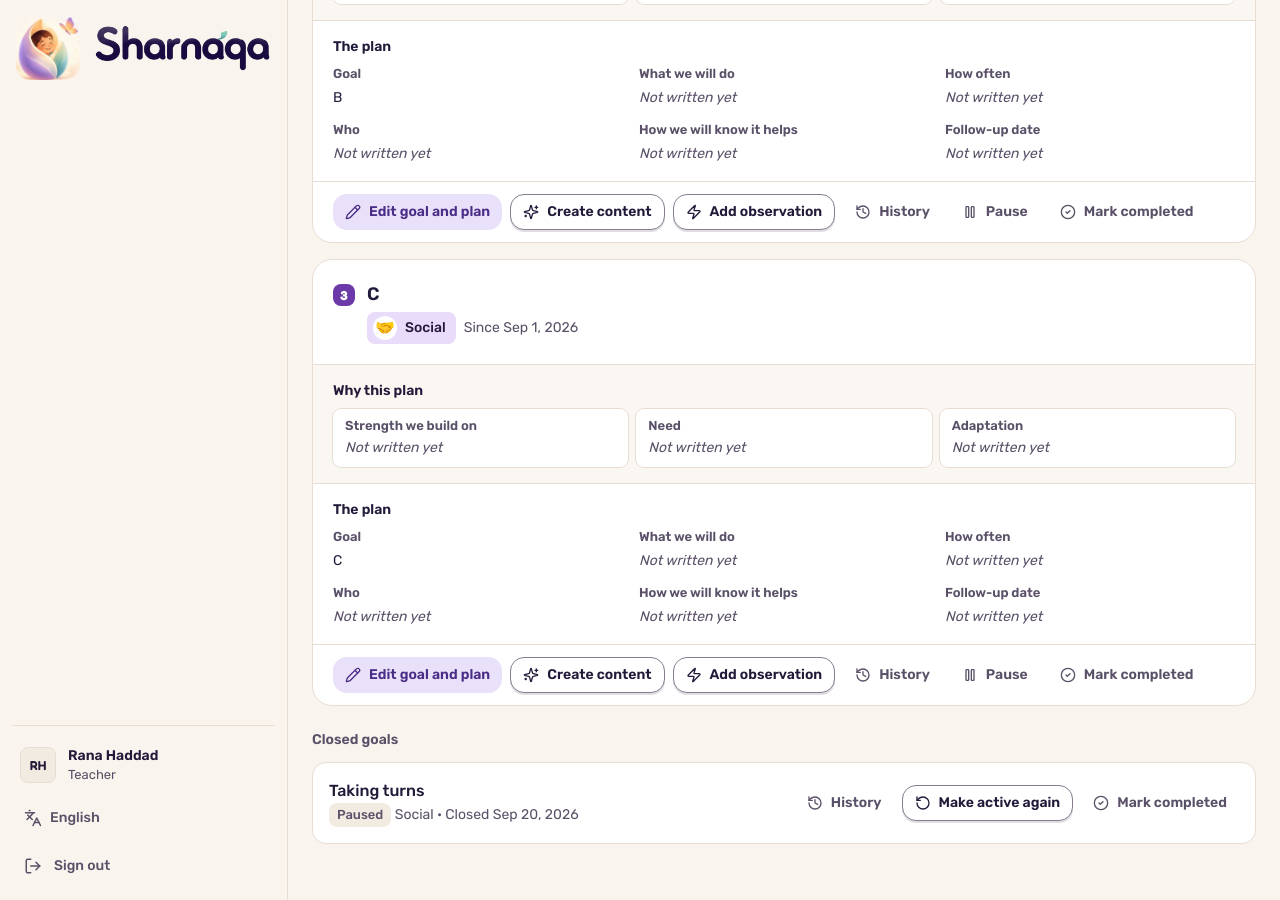
Plan tab › shows a friendly message when reactivating would exceed 3 active goals
The image size is (1280, 900).
(page scrolled)
Click the button "Make active again".
click(987, 803)  # box x1=902 y1=785 x2=1073 y2=821
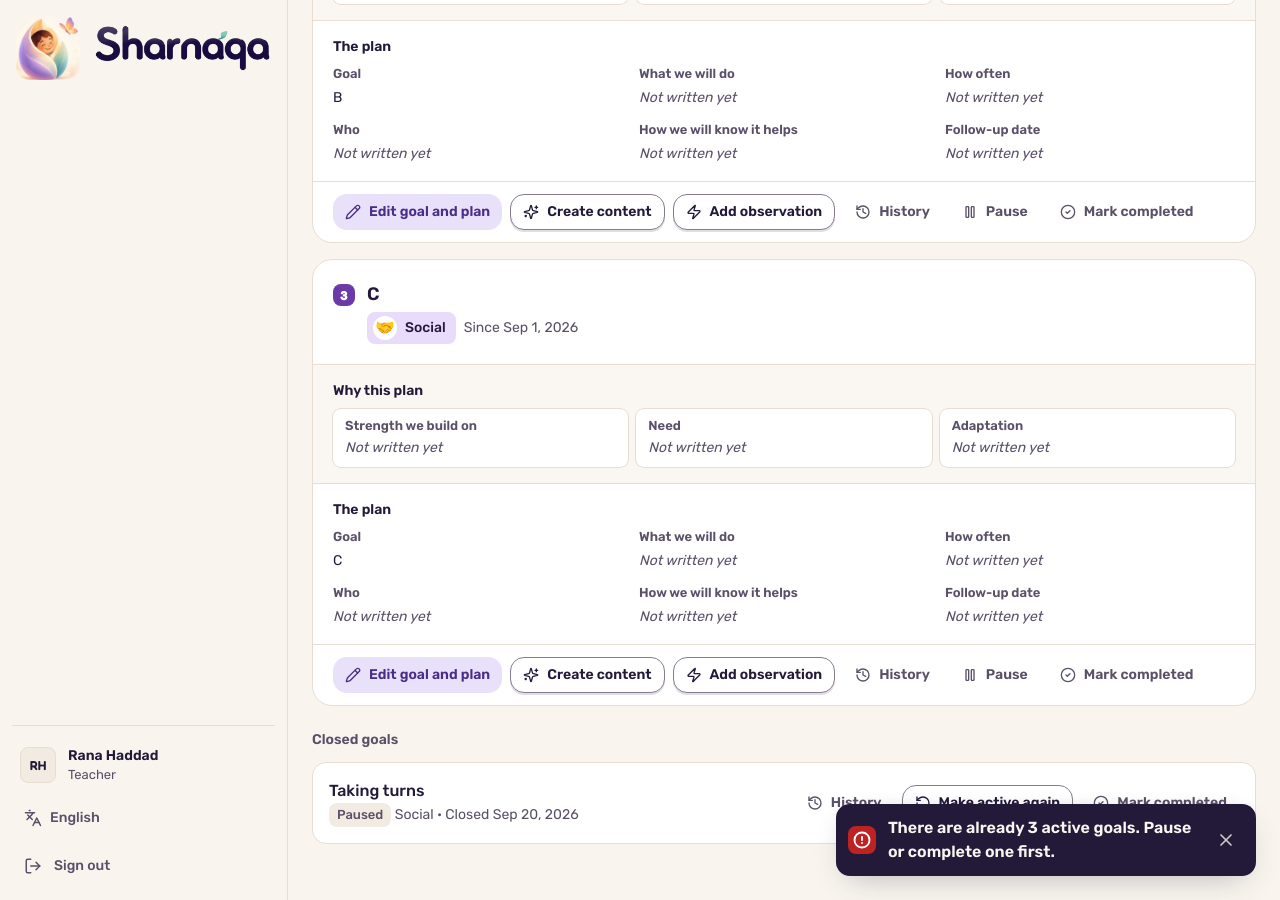
Now the text "There are already 3 active goals. Pause or complete one first." is shown, box x1=888 y1=816 x2=1192 y2=864
